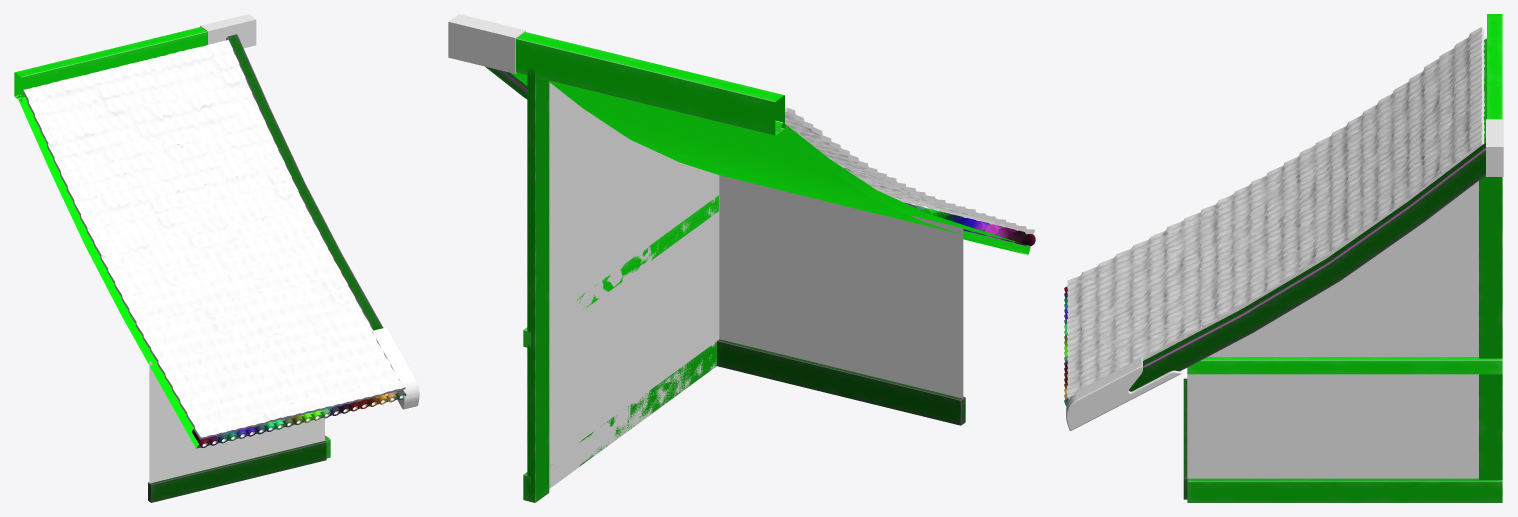
Rendered from roof_300_01_right.fbx.
3 renders of one model, left to right at view 1: azimuth 30°, elevation 25°; view 2: azimuth 150°, elevation 25°; view 3: azimuth 270°, elevation 25°, orthographic. The views are drawn at different scales.
Parts seen in each view (by area): view 1: roof_300_01_right; view 2: roof_300_01_right; view 3: roof_300_01_right.
Part boxes in pixels (<box>): roof_300_01_right: <box>14,14,419,502</box>; roof_300_01_right: <box>448,14,1035,502</box>; roof_300_01_right: <box>1064,14,1503,502</box>.
Size of the model in its own units: 4.02 by 5.41 by 5.58.
